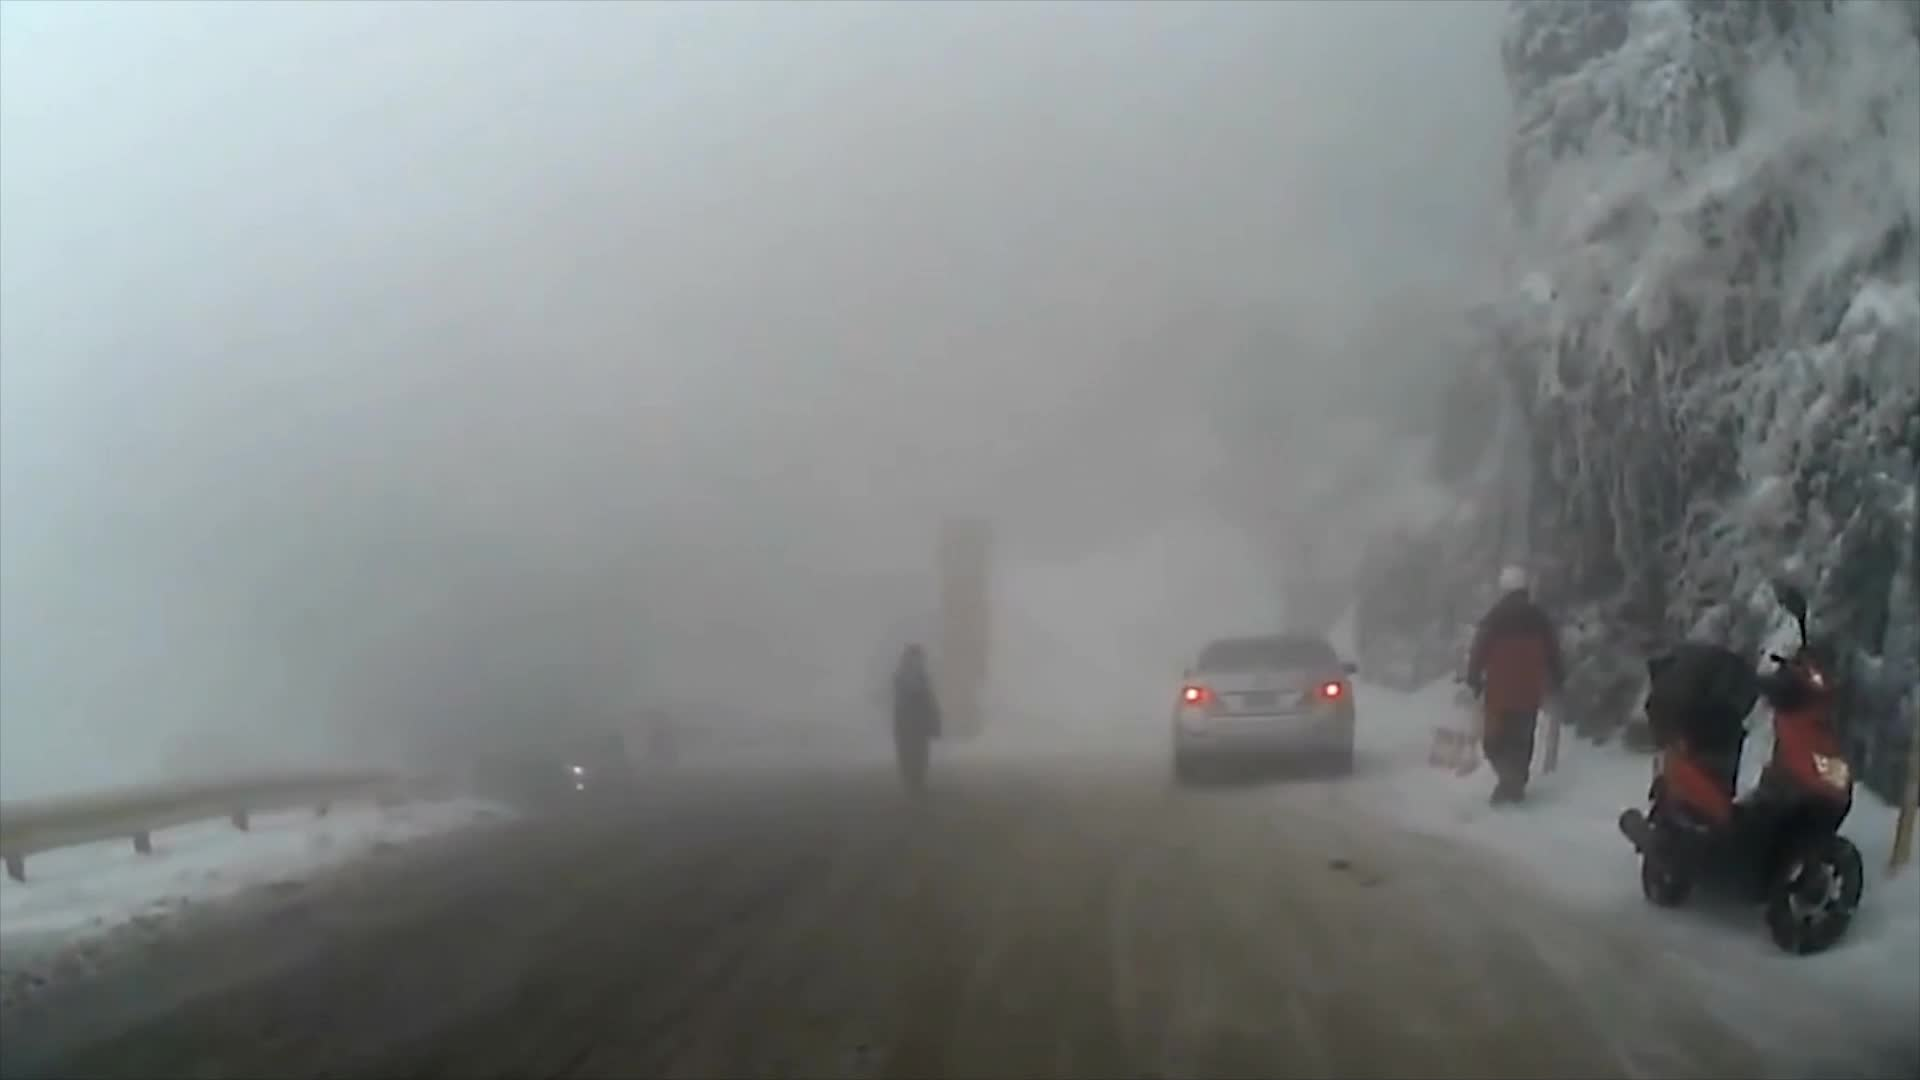pedestrian: (1466, 566, 1571, 816), (887, 642, 938, 805)
vehicle: (1171, 633, 1361, 789)
